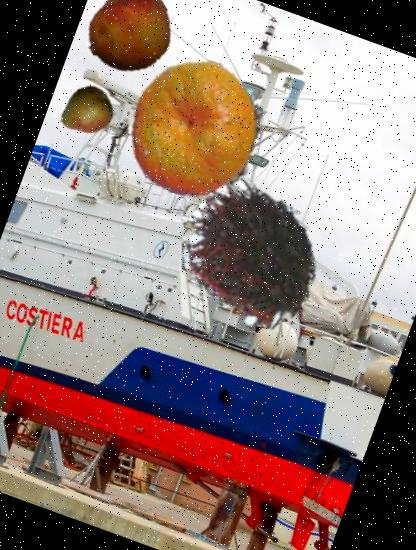Mandarine: (104, 39, 282, 216)
Peach: (74, 0, 186, 88)
Pear: (50, 76, 122, 148)
Rambutan: (160, 162, 343, 346), (116, 50, 294, 228)
